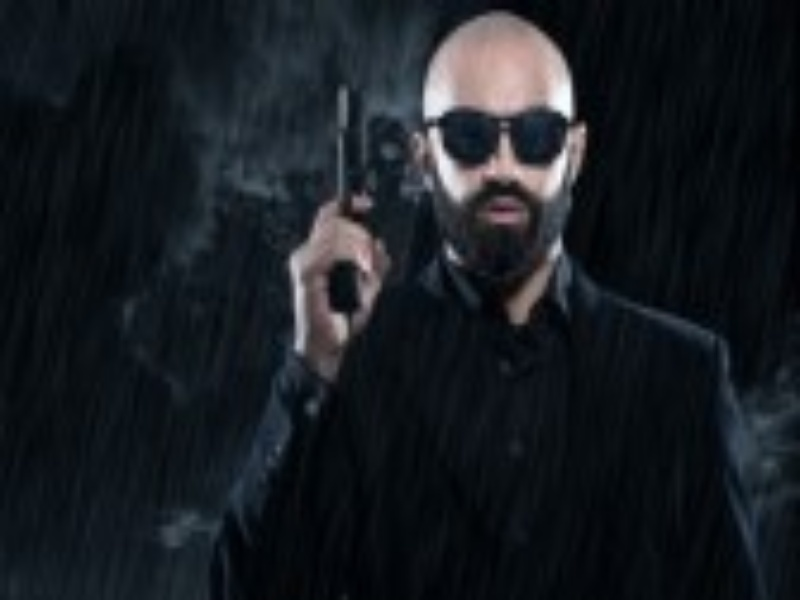gun: (309, 74, 389, 334)
